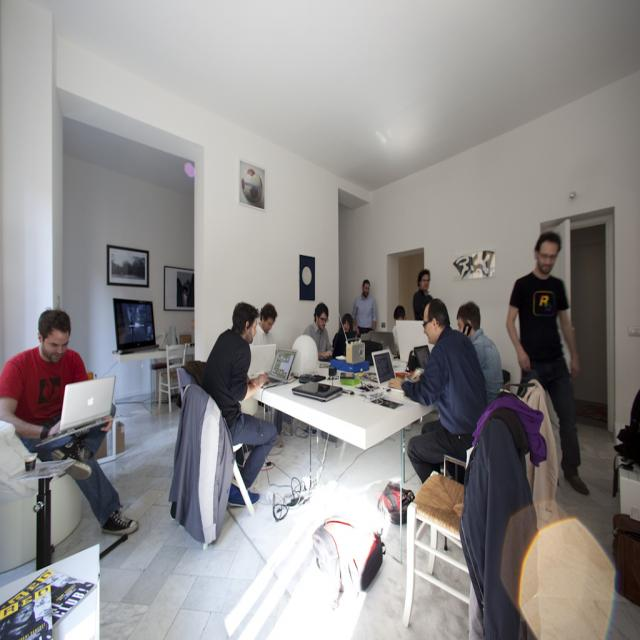chair: (403, 424, 478, 628), (170, 382, 259, 546), (152, 341, 188, 413)
desk: (245, 364, 441, 526)
laptop: (40, 376, 118, 438), (373, 351, 406, 392), (262, 348, 296, 386), (248, 343, 276, 376), (346, 338, 366, 366)
person: (0, 308, 138, 540), (506, 232, 590, 498), (392, 300, 488, 484), (200, 300, 282, 487), (456, 301, 504, 402), (303, 302, 333, 357), (331, 311, 362, 360), (352, 278, 377, 332), (251, 300, 278, 348), (412, 267, 432, 321)
tv: (112, 298, 157, 351)
